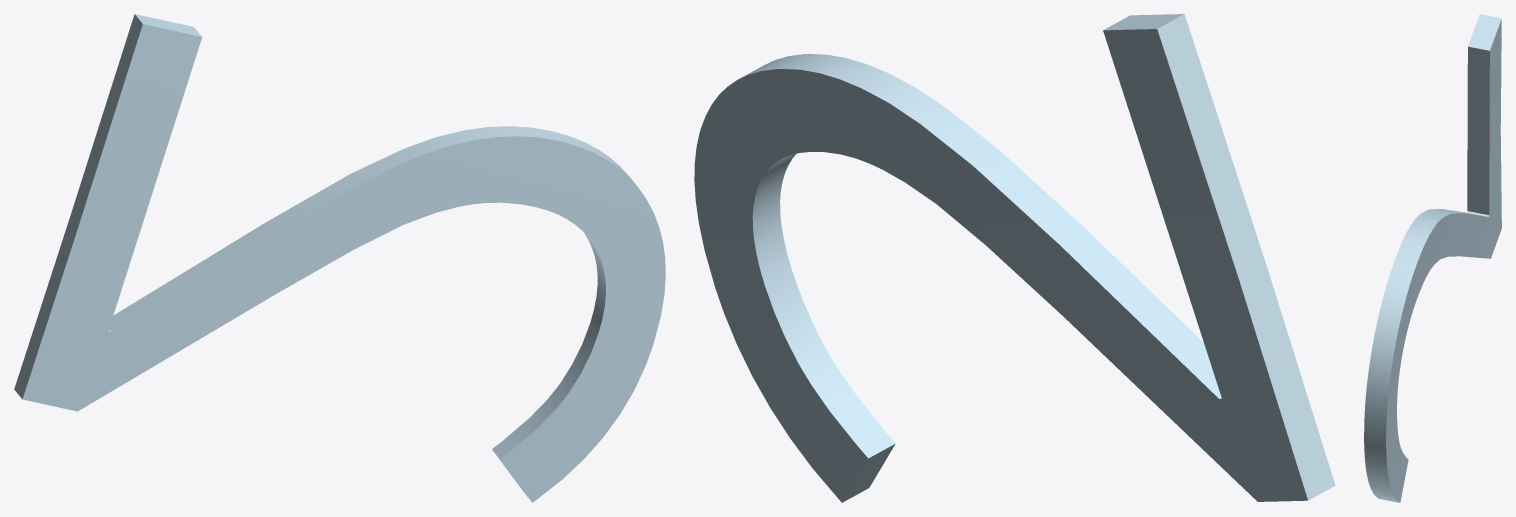
The model's file is Number_2.gltf.
The picture shows the model from 3 angles, left to right: view 1: azimuth 30°, elevation 25°; view 2: azimuth 150°, elevation 25°; view 3: azimuth 270°, elevation 25°; orthographic projection. The views are drawn at different scales.
Parts seen in each view (by area): view 1: Sub_6_Cell_3_1_Number_2; view 2: Sub_6_Cell_3_1_Number_2; view 3: Sub_6_Cell_3_1_Number_2.
Part boxes in pixels (box(x1,y1,x2,y2)): Sub_6_Cell_3_1_Number_2: box(14, 14, 665, 502); Sub_6_Cell_3_1_Number_2: box(694, 14, 1335, 502); Sub_6_Cell_3_1_Number_2: box(1364, 14, 1501, 502).
Bounding box in the file's own units: 0.0269 × 0.0229 × 0.00768.
